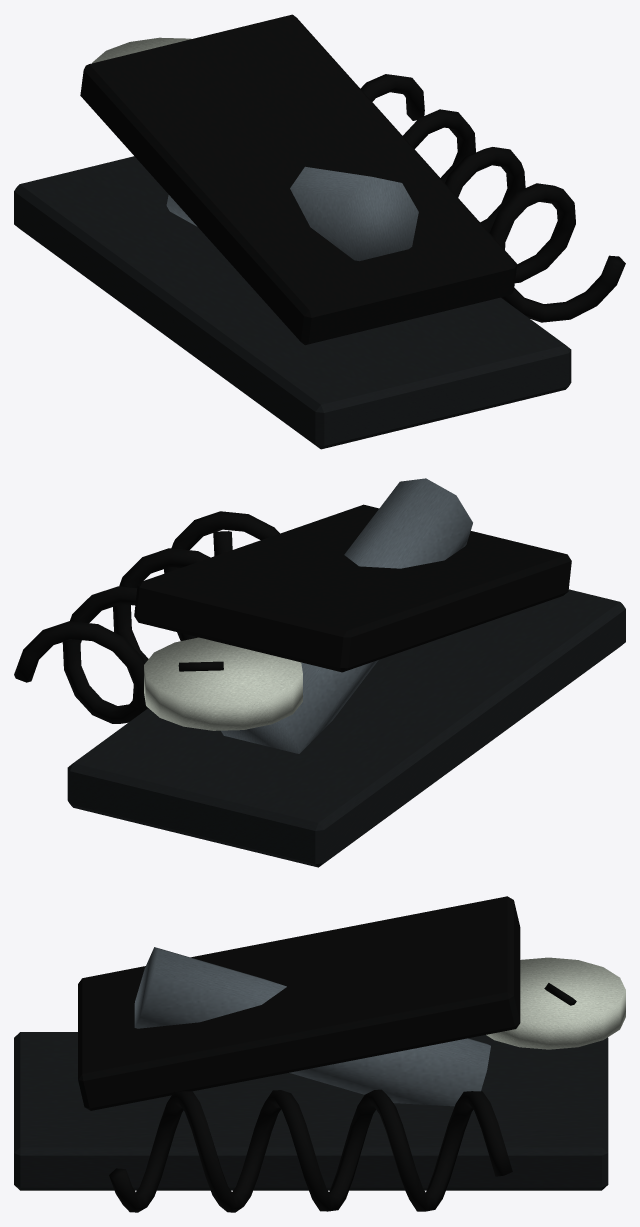
The model's file is FootPump.gltf.
The picture shows the model from 3 angles, top to bottom: view 1: azimuth 30°, elevation 25°; view 2: azimuth 150°, elevation 25°; view 3: azimuth 270°, elevation 25°; orthographic projection. The views are drawn at different scales.
Parts seen in each view (by area): view 1: FootPump__Body; view 2: FootPump__Body; view 3: FootPump__Body.
Boxes of the visible parts, x1,y1,x2,y2 form: FootPump__Body: (14, 14, 625, 449); FootPump__Body: (14, 478, 625, 867); FootPump__Body: (14, 896, 625, 1212).
Bounding box in the file's own units: 0.1892 × 0.0981 × 0.2884.
1 material, 1 textured.
